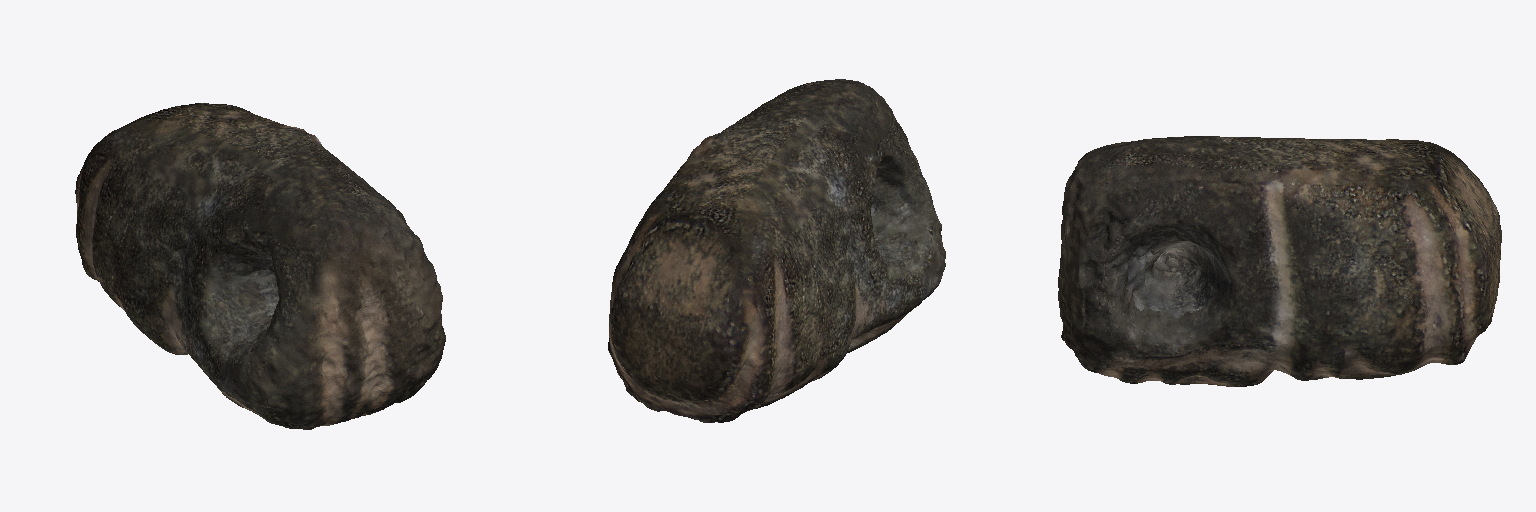
3 renders of one model, left to right at view 1: azimuth 30°, elevation 25°; view 2: azimuth 150°, elevation 25°; view 3: azimuth 270°, elevation 25°, orthographic.
Size of the model in its own units: 0.0104 by 0.0118 by 0.0203.
1 materials, 1 textured.